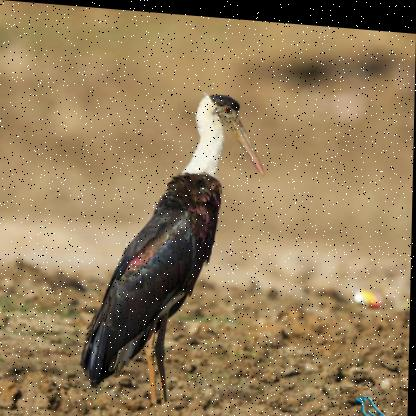Burung: (81, 78, 278, 408)
